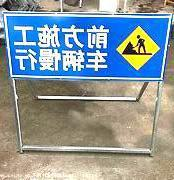sign: (2, 11, 173, 82)
